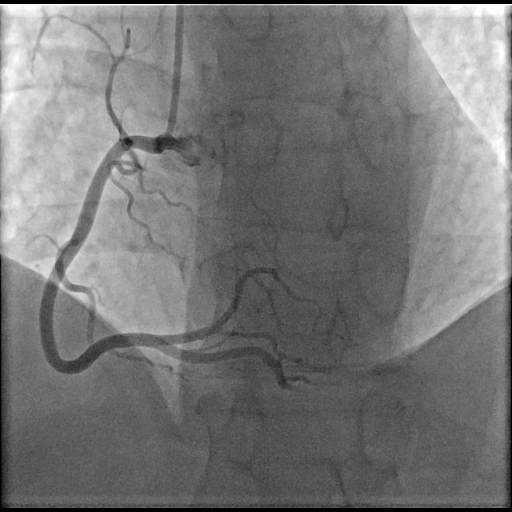RCA: (40, 130, 251, 374)
catherter: (164, 2, 186, 135)
